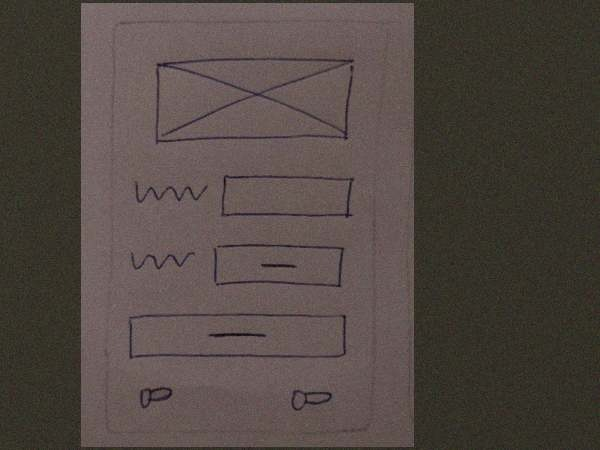button: (121, 309, 352, 363), (211, 242, 345, 294)
image: (152, 54, 358, 151)
switch: (134, 382, 179, 416), (289, 385, 334, 418)
text: (125, 175, 214, 213), (120, 241, 208, 279)
text_input: (217, 170, 361, 224)
